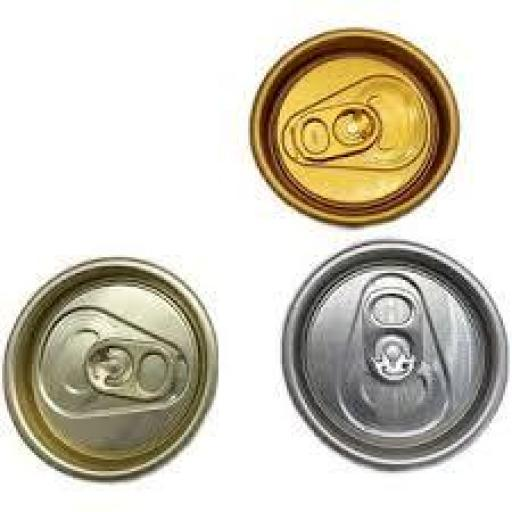pop tab: (80, 334, 182, 410), (358, 284, 426, 386), (280, 105, 383, 169)
